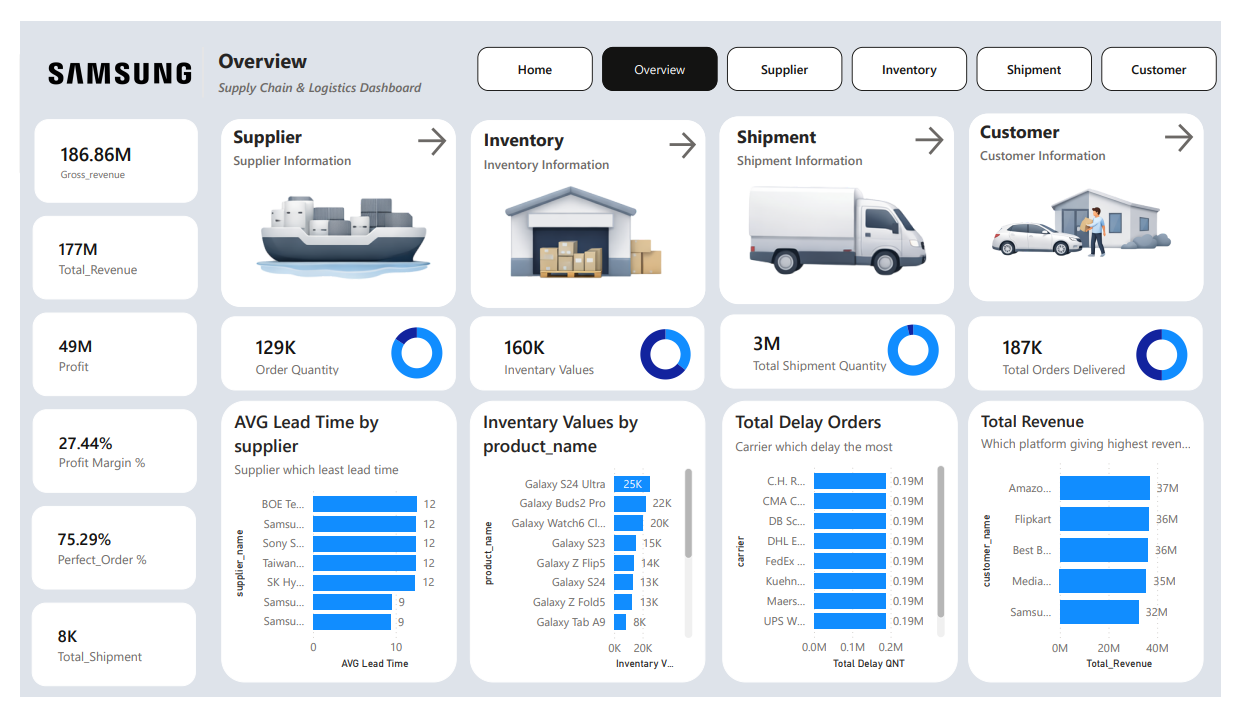

The page's visual inventory and layout, read from the dashboard file:
{"tool":"powerbi","page":{"name":"Overview","canvas":[1280,720],"ordinal":1},"visuals":[{"type":"shape","box":[215.1,103.6,250,200],"z":0},{"type":"shape","box":[1011.5,98.1,250,200],"z":1000},{"type":"shape","box":[480.6,104.6,250,200],"z":2000},{"type":"shape","box":[746,100.8,250,200],"z":3000},{"type":"image","box":[232.3,143.8,216.4,151.5],"z":4000},{"type":"image","box":[760.3,138.1,216.4,152.9],"z":5000},{"type":"image","box":[1028.7,135.2,216.4,152.9],"z":6000},{"type":"actionButton","box":[419.2,108.2,49.8,39.8],"z":7000},{"type":"actionButton","box":[686.8,112.5,50.5,39],"z":8000},{"type":"actionButton","box":[949.3,106.8,50.5,40.4],"z":9000},{"type":"actionButton","box":[1215.3,104.5,49.8,39.8],"z":10000},{"type":"image","box":[497.8,140.9,215,152.9],"z":11000},{"type":"shape","title":"Supplier","box":[227.5,108.6,154.3,61],"z":12000},{"type":"shape","title":"Inventory","box":[494.9,112.5,180.3,60.6],"z":13000},{"type":"shape","title":"Shipment","box":[764.6,108.7,154.3,61],"z":14000},{"type":"shape","title":"Customer","box":[1023.9,103.9,154.3,61],"z":15000},{"type":"shape","title":"Overview","box":[211.9,27,307.2,68.3],"z":16000},{"type":"image","box":[18.7,22.4,169.2,64.7],"z":17000},{"type":"shape","box":[119.4,27.4,153,53.5],"z":18000},{"type":"cardVisual","fields":{"Data":["Measures Table.Total_Revenue"]},"box":[14.4,207.3,176,89],"z":19000},{"type":"cardVisual","fields":{"Data":["Measures Table.Profit Margin %"]},"box":[14.4,413.3,174.6,89],"z":20000},{"type":"cardVisual","fields":{"Data":["Measures Table.Perfect_Order %"]},"box":[13,516.4,174.6,89],"z":21000},{"type":"cardVisual","fields":{"Data":["Measures Table.Profit"]},"box":[14.2,310.3,174.6,89],"z":22000},{"type":"cardVisual","fields":{"Data":["Measures Table.Total_Shipment"]},"box":[13,619.4,174.6,89],"z":23000},{"type":"cardVisual","fields":{"Data":["Sum(fact_Sales.gross_revenue)"]},"box":[15.9,104,174.6,89.5],"z":24000},{"type":"shape","box":[215,313.6,249.6,79.4],"z":25000},{"type":"shape","box":[480.4,313.6,249.6,79.4],"z":26000},{"type":"shape","box":[747.4,312.1,249.6,79.4],"z":27000},{"type":"shape","box":[1011.4,313.6,249.6,79.4],"z":28000},{"type":"cardVisual","fields":{"Data":["Measures Table.Order_QNT"]},"box":[222.5,316.1,154.4,77.9],"z":29000},{"type":"cardVisual","fields":{"Data":["Measures Table.Inventary Values"]},"box":[488,316.1,154.4,77.9],"z":30000},{"type":"cardVisual","fields":{"Data":["Measures Table.Total Shipment Quantity"]},"box":[753.5,311.7,203.4,77.9],"z":31000},{"type":"cardVisual","fields":{"Data":["Measures Table.Total Orders Delivered"]},"box":[1018.9,316.1,203.4,77.9],"z":32000},{"type":"clusteredBarChart","title":"AVG Lead Time by supplier","fields":{"Category":["dim_Supplier.supplier_name"],"Y":["Measures Table.AVG Lead Time"]},"box":[215,404.2,251,300],"z":33000},{"type":"clusteredBarChart","fields":{"Category":["dim_Product.product_name"],"Y":["Measures Table.Inventary Values"]},"box":[480.4,404.2,251,300],"z":34000},{"type":"clusteredBarChart","title":"Total Delay Orders","fields":{"Y":["Measures Table.Total Delay Orders"],"Category":["fact_Shipment.carrier"]},"box":[748.8,404.2,251,300],"z":35000},{"type":"clusteredBarChart","title":"Total Revenue","fields":{"Category":["dim_Customer.customer_name"],"Y":["Measures Table.Total_Revenue"]},"box":[1011.4,404.2,251,300],"z":36000},{"type":"donutChart","fields":{"Y":["Measures Table.Order_QNT","Measures Table.Defective Piece"]},"box":[372.6,314.1,101,77.9],"z":37000},{"type":"donutChart","fields":{"Y":["Measures Table.safety stock","Measures Table.Inventary Values"]},"box":[638.1,315.6,101,77.9],"z":38000},{"type":"donutChart","fields":{"Y":["Measures Table.Total Delay","Measures Table.Total_Shipment"]},"box":[902.1,311.3,101,77.9],"z":39000},{"type":"donutChart","fields":{"Y":["Measures Table.Total Delay Orders","Measures Table.Total Orders Delivered"]},"box":[1167.3,316.2,101,77.9],"z":40000},{"type":"pageNavigator","box":[488.3,27,787.7,46.6],"z":41000}]}

Visuals, with their boxes in screenshot pixels (x1, y1, x2, y2), scaled from the page's 1280x720 canvas onto the 1241x718 screenshot:
shape: 209 103 451 303
shape: 981 98 1223 297
shape: 466 104 708 304
shape: 723 101 966 300
image: 225 143 435 294
image: 737 138 947 290
image: 997 135 1207 287
actionButton: 406 108 455 148
actionButton: 666 112 715 151
actionButton: 920 107 969 147
actionButton: 1178 104 1227 144
image: 483 141 691 293
"Supplier" shape: 221 108 370 169
"Inventory" shape: 480 112 655 173
"Shipment" shape: 741 108 891 169
"Customer" shape: 993 104 1142 164
"Overview" shape: 205 27 503 95
image: 18 22 182 87
shape: 116 27 264 81
cardVisual - Measures Table.Total_Revenue: 14 207 185 295
cardVisual - Measures Table.Profit Margin %: 14 412 183 501
cardVisual - Measures Table.Perfect_Order %: 13 515 182 604
cardVisual - Measures Table.Profit: 14 309 183 398
cardVisual - Measures Table.Total_Shipment: 13 618 182 706
cardVisual - Sum(fact_Sales.gross_revenue): 15 104 185 193
shape: 208 313 450 392
shape: 466 313 708 392
shape: 725 311 967 390
shape: 981 313 1223 392
cardVisual - Measures Table.Order_QNT: 216 315 365 393
cardVisual - Measures Table.Inventary Values: 473 315 623 393
cardVisual - Measures Table.Total Shipment Quantity: 731 311 928 389
cardVisual - Measures Table.Total Orders Delivered: 988 315 1185 393
"AVG Lead Time by supplier" clusteredBarChart: 208 403 452 702
clusteredBarChart - dim_Product.product_name x Measures Table.Inventary Values: 466 403 709 702
"Total Delay Orders" clusteredBarChart: 726 403 969 702
"Total Revenue" clusteredBarChart: 981 403 1224 702
donutChart - Measures Table.Order_QNT x Measures Table.Defective Piece: 361 313 459 391
donutChart - Measures Table.safety stock x Measures Table.Inventary Values: 619 315 717 392
donutChart - Measures Table.Total Delay x Measures Table.Total_Shipment: 875 310 973 388
donutChart - Measures Table.Total Delay Orders x Measures Table.Total Orders Delivered: 1132 315 1230 393
pageNavigator: 473 27 1237 73
